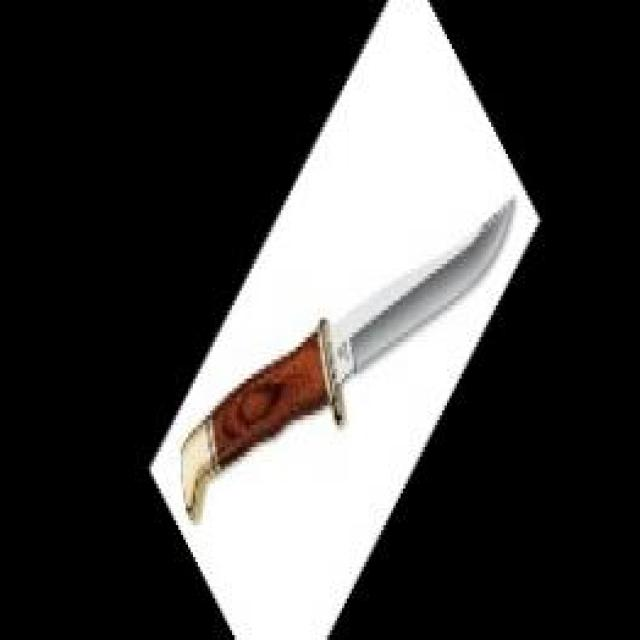knife: (184, 195, 520, 524)
